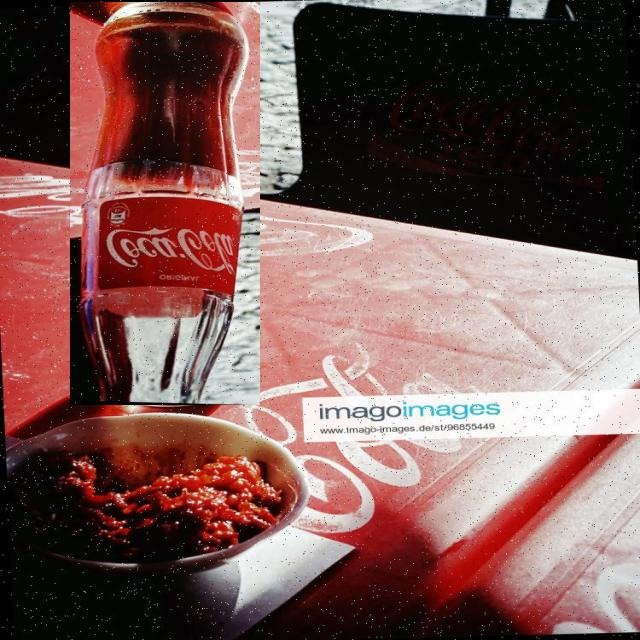coca-cola: (70, 2, 260, 405)
